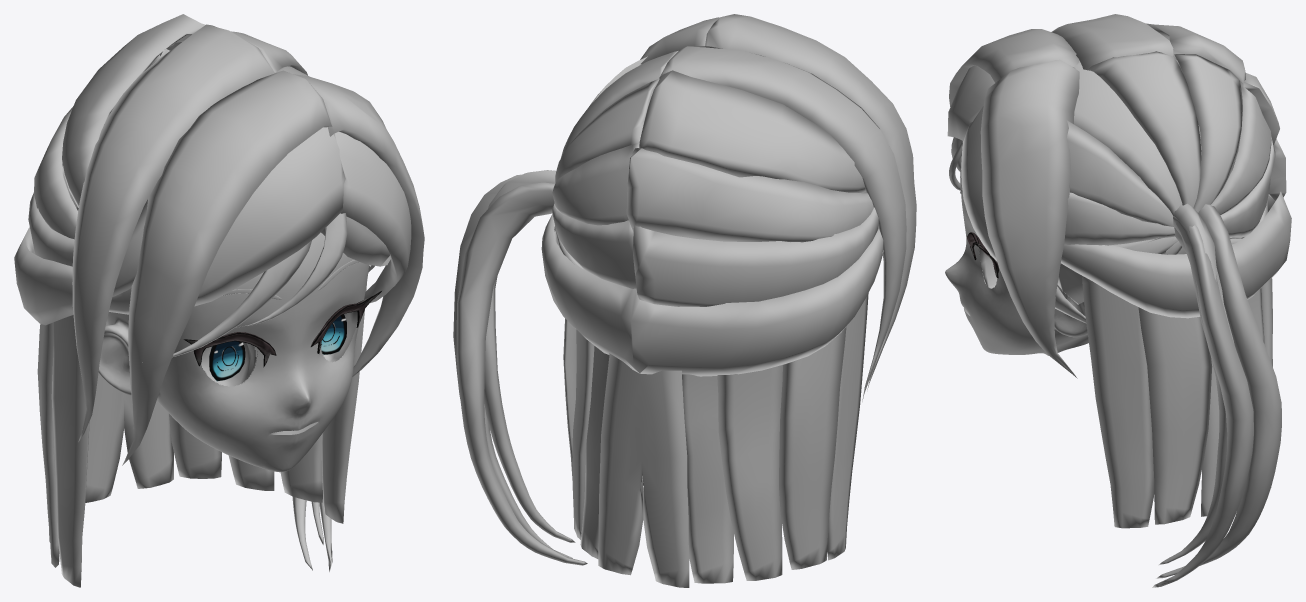
Rendered from female_hair_messy 2.glb.
3 renders of one model, left to right at view 1: azimuth 30°, elevation 25°; view 2: azimuth 150°, elevation 25°; view 3: azimuth 270°, elevation 25°, orthographic. The views are drawn at different scales.
Visible parts, largest first — view 1: hair_24, face_0, hair_18, hair_12, hair_19, hair_25, hair_10, hair_23, hair_15, hair_20, hair_7, hair_9 (+12 smaller); view 2: hair_7, hair_23, hair_10, hair_9, hair_21, hair_8, hair_18, hair_20, hair_30, hair_22, hair_24, hair_19 (+7 smaller); view 3: hair_25, hair_19, hair_20, hair_7, hair_30, hair_31, hair_5, face_0, hair_6, hair_0, hair_29, hair_18 (+14 smaller).
Part boxes in pixels (x1,y1,x2,y2): hair_24: (122, 70, 332, 465); face_0: (98, 232, 368, 472); hair_18: (72, 24, 275, 441); hair_12: (109, 127, 345, 314); hair_19: (51, 283, 366, 587); hair_25: (293, 74, 424, 376); hair_10: (62, 14, 205, 207); hair_23: (85, 322, 173, 502); hair_15: (334, 132, 411, 302); hair_20: (37, 322, 322, 567); hair_7: (14, 227, 73, 325); hair_9: (34, 51, 162, 239); hair_7: (541, 214, 883, 376); hair_23: (598, 353, 689, 587); hair_10: (639, 70, 865, 193); hair_9: (626, 148, 873, 242); hair_21: (572, 329, 782, 580); hair_8: (633, 207, 878, 306); hair_18: (659, 46, 906, 401); hair_20: (563, 318, 846, 569); hair_30: (456, 182, 587, 565); hair_22: (580, 346, 733, 583); hair_24: (705, 14, 916, 389); hair_19: (827, 293, 868, 560); hair_25: (980, 59, 1079, 378); hair_19: (1082, 276, 1154, 528); hair_20: (1138, 307, 1212, 524); hair_7: (1061, 191, 1291, 318); hair_30: (1156, 204, 1281, 578); hair_31: (1152, 216, 1253, 587); hair_5: (1089, 51, 1201, 207); face_0: (945, 125, 1201, 355); hair_6: (1174, 54, 1242, 212); hair_0: (1074, 60, 1182, 215); hair_29: (1066, 120, 1173, 226); hair_18: (1051, 14, 1184, 75).
Bounding box in the file's own units: 0.3993 × 0.5552 × 0.3494.
38 materials, 2 textured.
